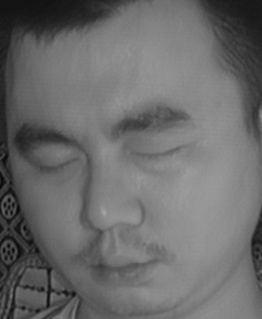blink: (132, 135, 186, 173), (33, 148, 82, 183)
mouth: (82, 236, 164, 292)
